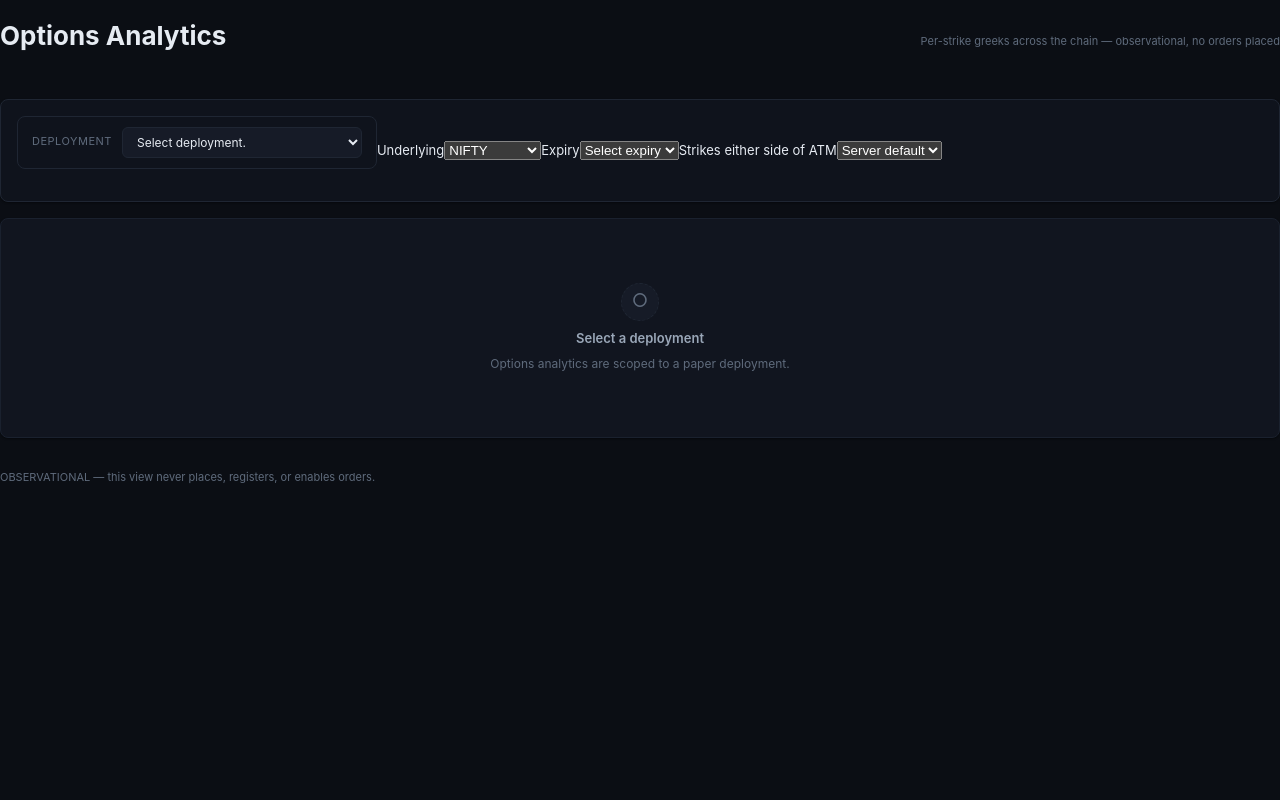
PaperOptionsAnalytics — states › flags a clamped window
Select "dep-1 — NSE:SBIN · 1d [active]" in the dropdown named "Select deployment" at (242, 142), box [122,126,362,158]
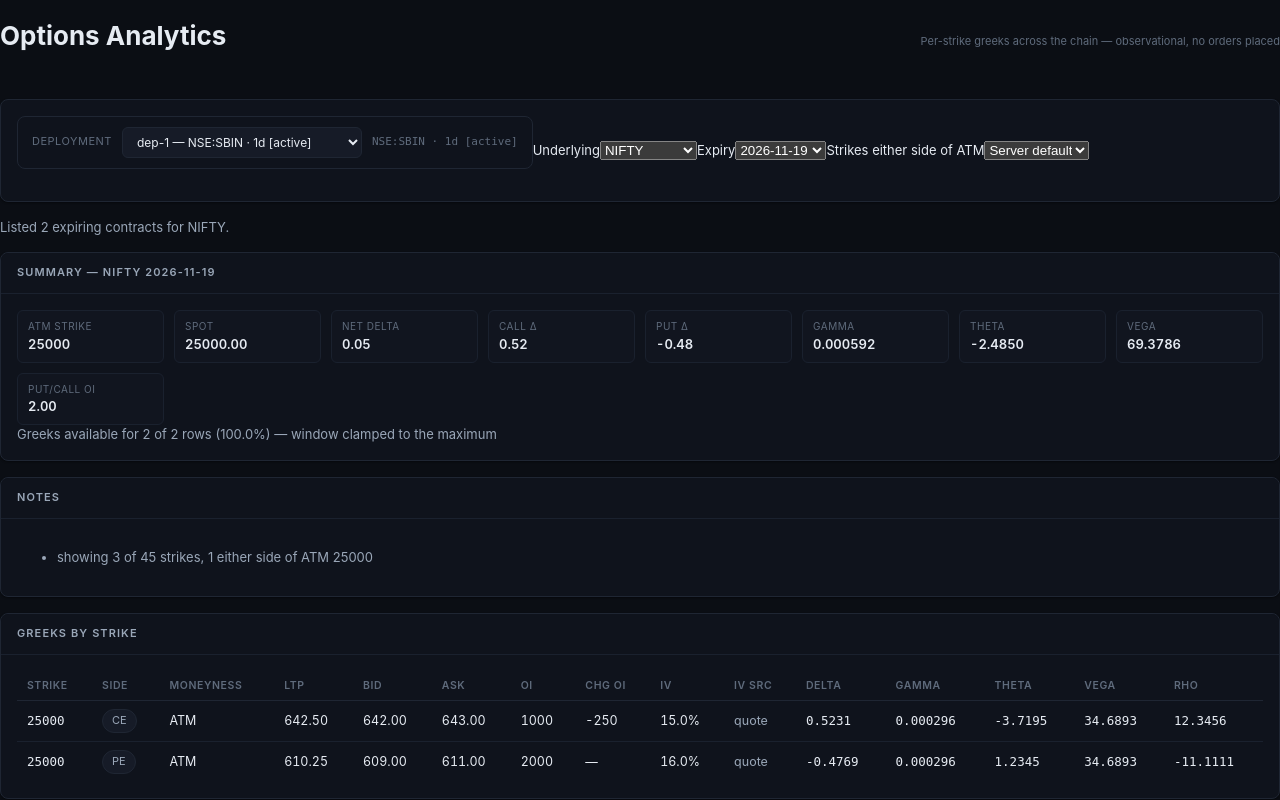
Expected: the text "window clamped to the maximum" is shown, [271,426,497,442]
